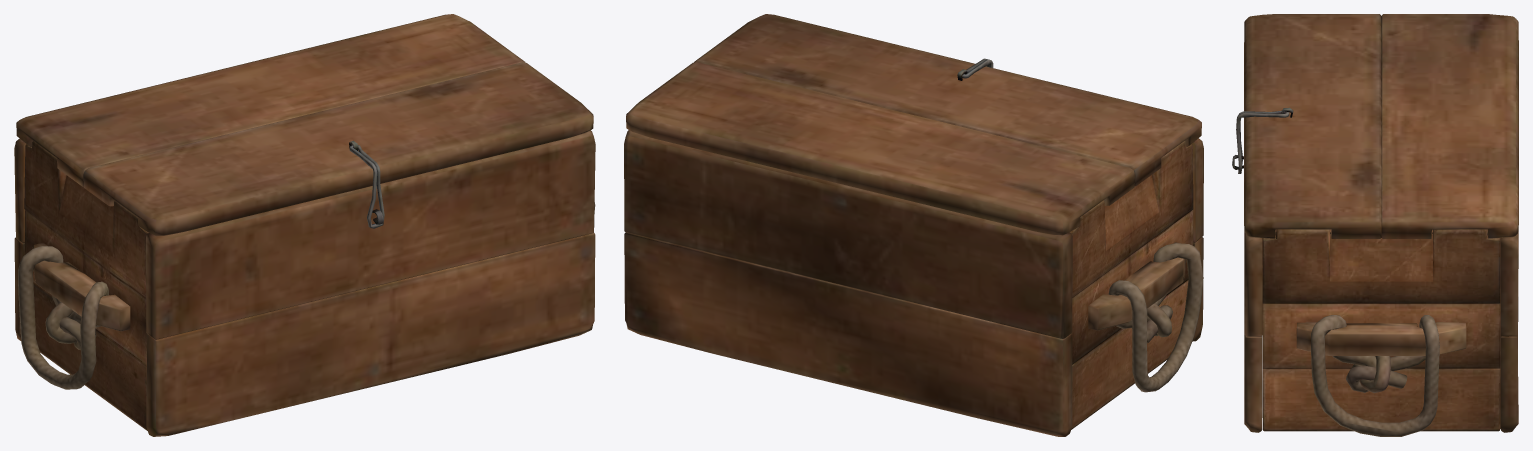
Rendered from crate.gltf.
3 renders of one model, left to right at view 1: azimuth 30°, elevation 25°; view 2: azimuth 150°, elevation 25°; view 3: azimuth 270°, elevation 25°, orthographic. The views are drawn at different scales.
Parts seen in each view (by area): view 1: wooden_crate_01_lid; view 2: wooden_crate_01_lid; view 3: wooden_crate_01_lid.
Boxes of the visible parts, x1=… form: wooden_crate_01_lid: x1=14, y1=14, x2=595, y2=436; wooden_crate_01_lid: x1=624, y1=14, x2=1203, y2=436; wooden_crate_01_lid: x1=1232, y1=14, x2=1518, y2=436.
Size of the model in its own units: 0.8253 by 0.3495 by 0.4084.
Materials: 1 (1 with a texture image).
